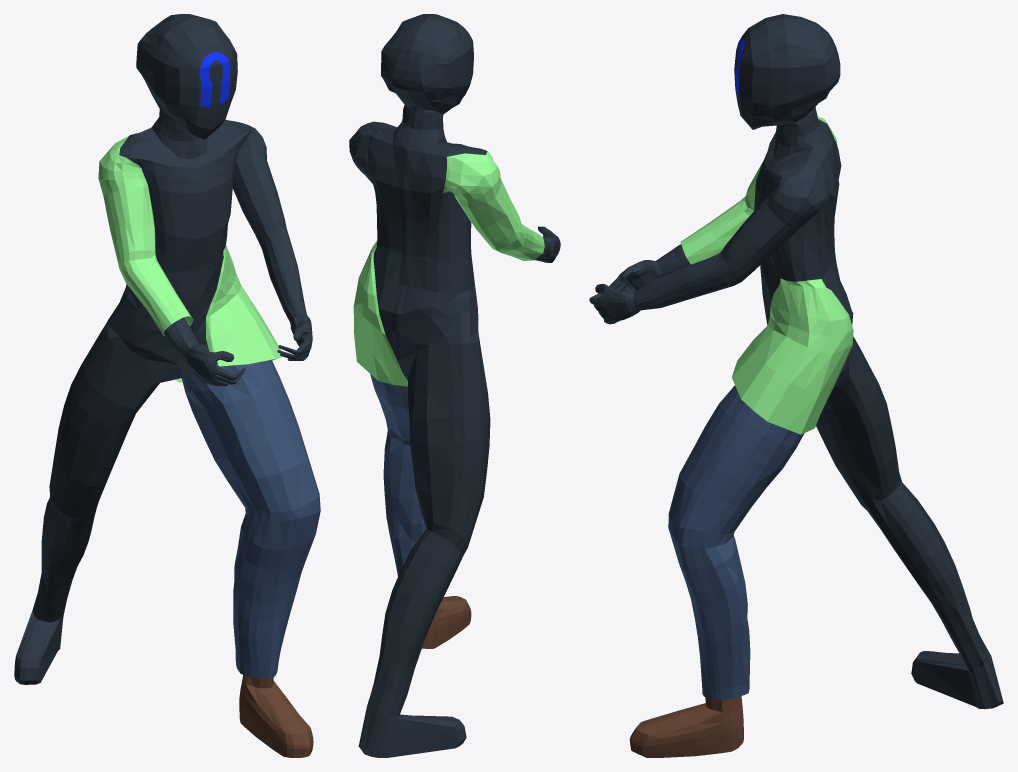
The model's file is Mar_Recover_000032.obj.
The picture shows the model from 3 angles, left to right: view 1: azimuth 30°, elevation 25°; view 2: azimuth 150°, elevation 25°; view 3: azimuth 270°, elevation 25°; orthographic projection. The views are drawn at different scales.
Visible parts, largest first — view 1: Cube.000_Cube.001; view 2: Cube.000_Cube.001; view 3: Cube.000_Cube.001.
Part boxes in pixels (x1=…): Cube.000_Cube.001: x1=14, y1=14, x2=320, y2=757; Cube.000_Cube.001: x1=349, y1=14, x2=560, y2=757; Cube.000_Cube.001: x1=589, y1=14, x2=1003, y2=757.
Bounding box in the file's own units: 1.08 × 3.76 × 1.98.
